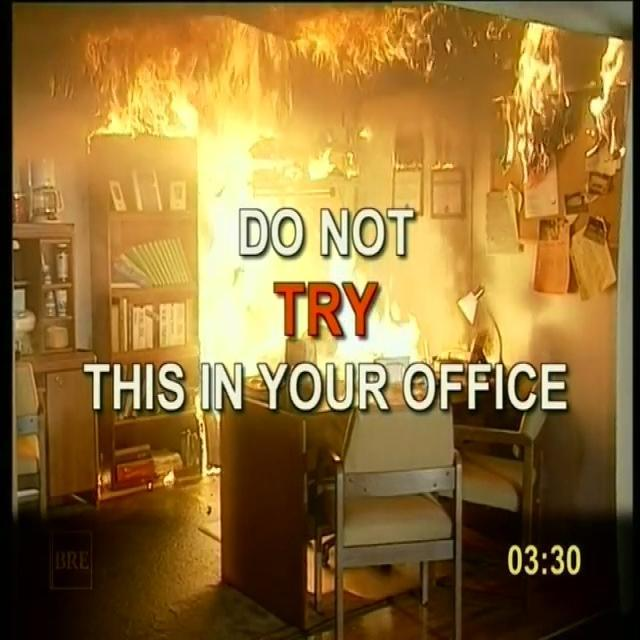Fire: (17, 0, 616, 220)
